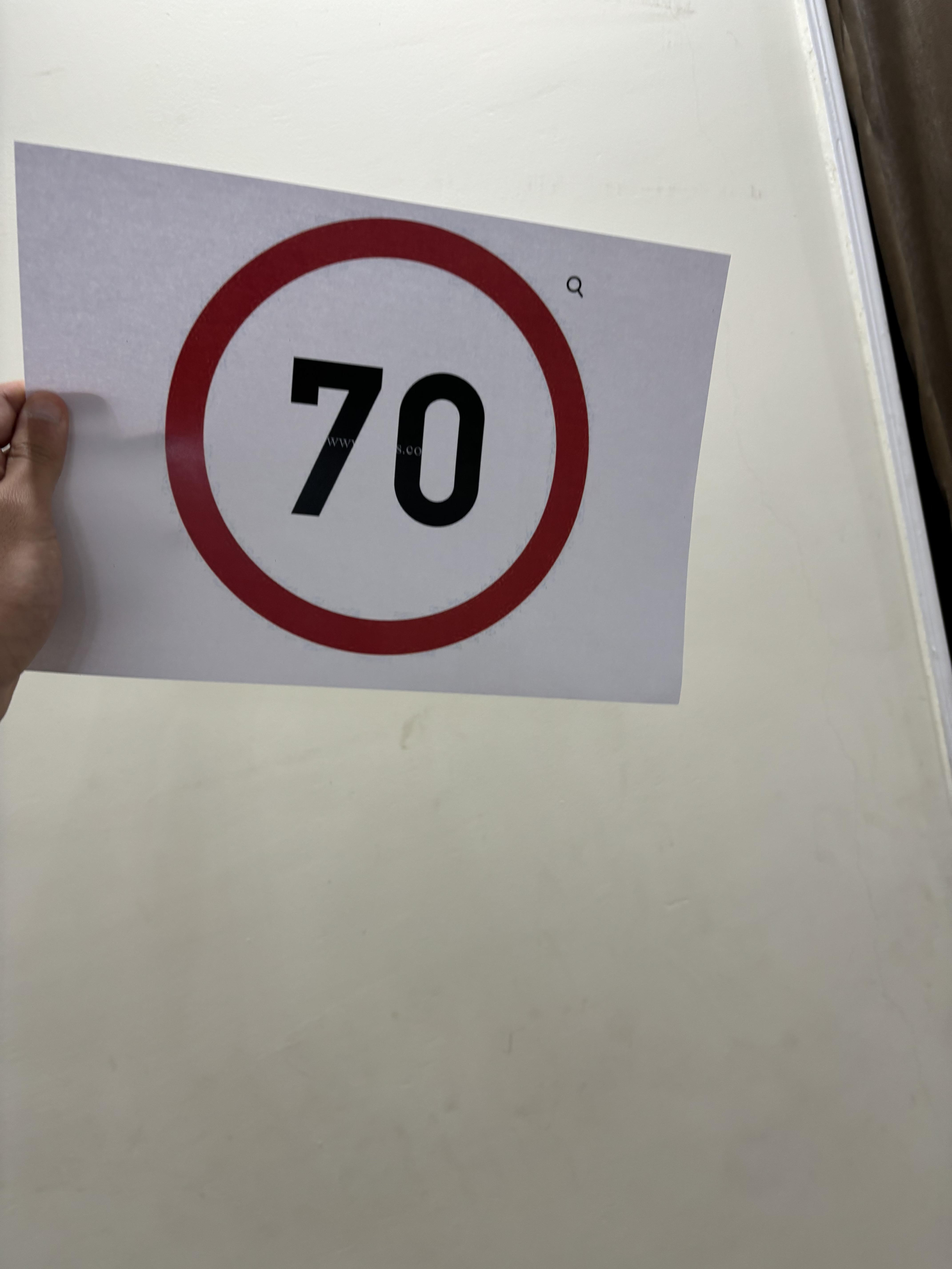70-Speed: (160, 214, 607, 655)
